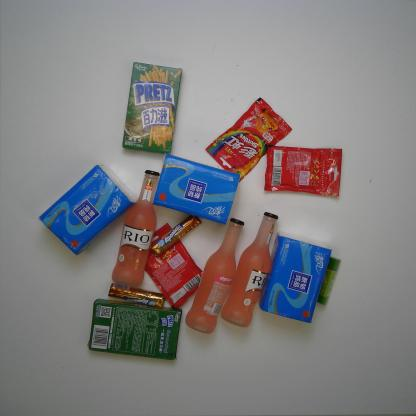Alcohol: (183, 216, 246, 335), (222, 210, 279, 330), (112, 167, 161, 288)
Candy: (205, 97, 294, 183), (144, 221, 202, 309), (263, 142, 344, 199), (150, 216, 203, 256), (106, 282, 165, 309)
Dessert: (87, 297, 183, 361), (121, 61, 183, 156)
Stationery: (316, 256, 342, 308)
Tissue: (38, 161, 140, 256), (259, 230, 333, 326), (150, 152, 241, 224)
